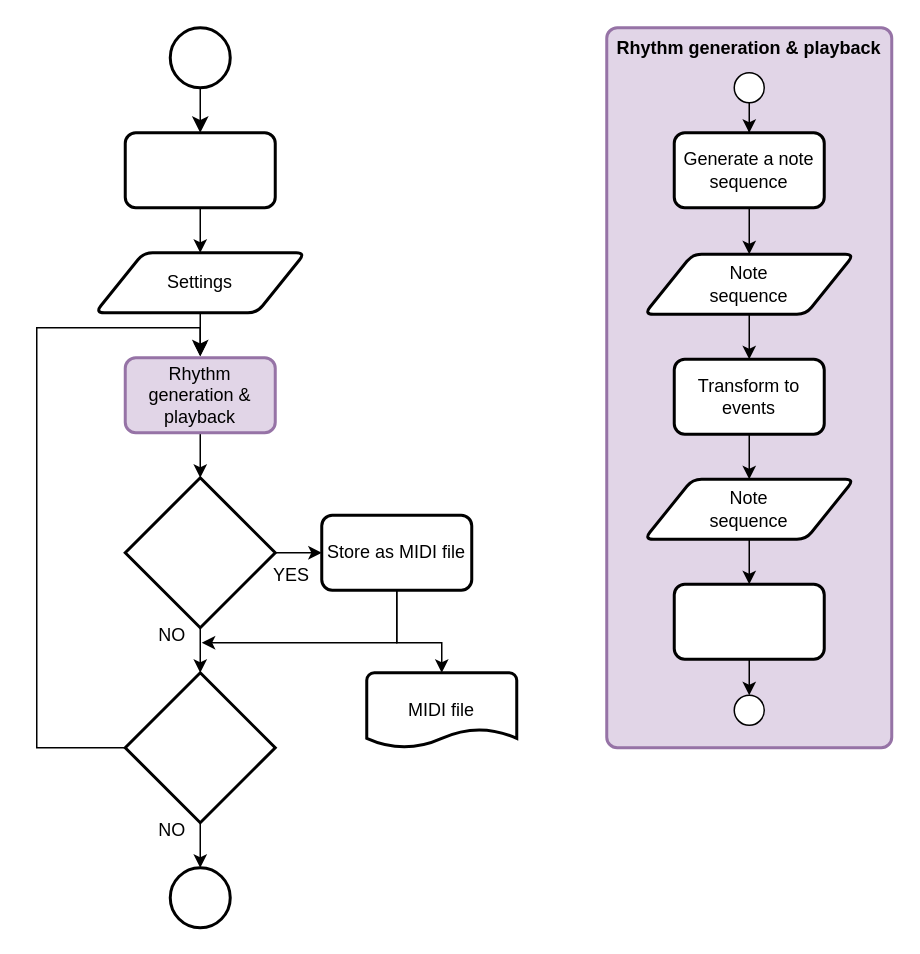
Some shapes in this 920 by 954 pixel diagram are drawn without their labels. Here are the shapes that lost their labels. From the top down, the box of each, then its label:
(123, 130, 276, 208): Retrieve settings from user for generation
(123, 476, 276, 628): Ask user: Store?
(672, 582, 825, 660): Play events
(123, 670, 276, 824): Ask user: Create another rhythm?
